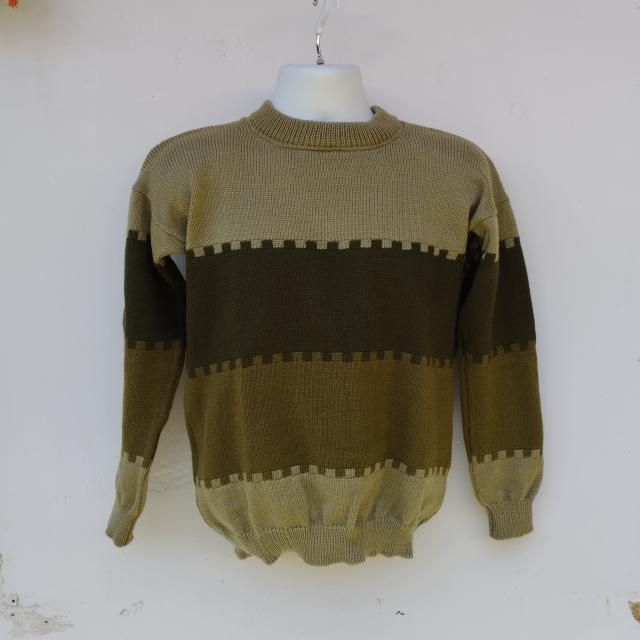Chompa: (105, 62, 545, 566)
